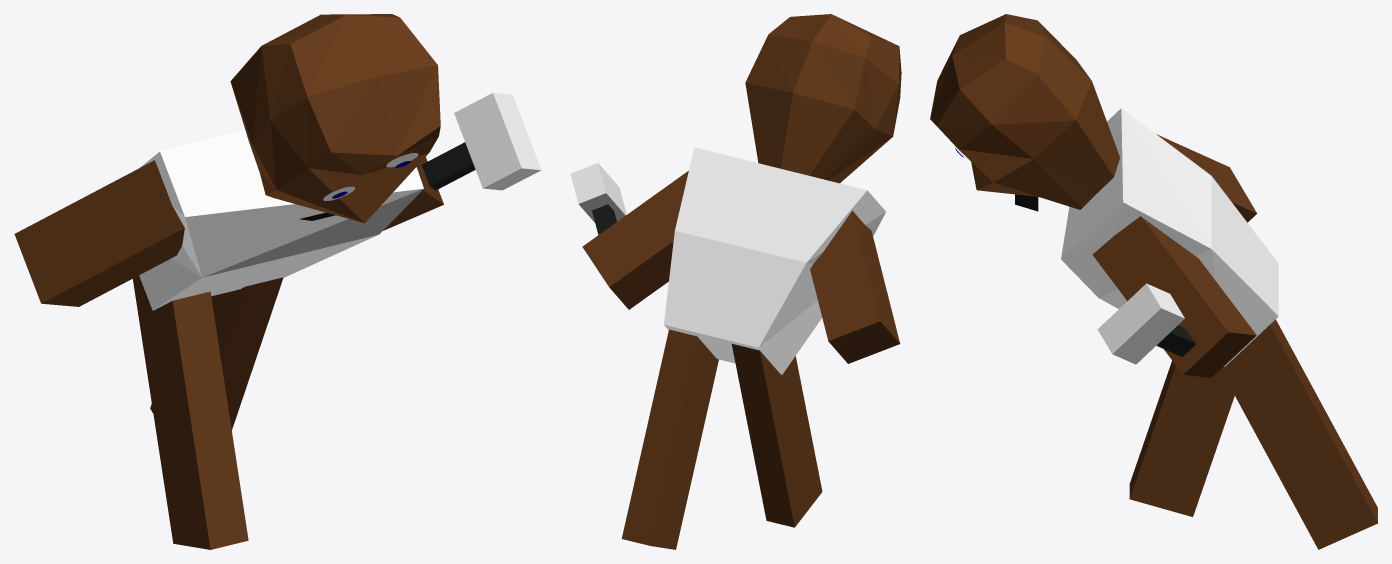
Rendered from slave1d.obj.
3 renders of one model, left to right at view 1: azimuth 30°, elevation 25°; view 2: azimuth 150°, elevation 25°; view 3: azimuth 270°, elevation 25°, orthographic. The views are drawn at different scales.
Parts seen in each view (by area): view 1: Cube, Cube.001, Cube.004, Cube.003, Cube.008, Cube.005, Cube.007, Cube.002; view 2: Cube.001, Cube, Cube.005, Cube.004, Cube.003, Cube.002, Cube.008, Cube.007; view 3: Cube, Cube.001, Cube.005, Cube.002, Cube.004, Cube.008, Cube.003, Cube.007.
Part boxes in pixels (x1,y1,x2,y2): Cube: [230, 14, 440, 223]; Cube.001: [139, 129, 423, 310]; Cube.004: [133, 275, 248, 549]; Cube.003: [14, 160, 184, 306]; Cube.008: [454, 93, 541, 190]; Cube.005: [150, 277, 283, 430]; Cube.007: [421, 142, 475, 190]; Cube.002: [383, 157, 443, 230]; Cube.001: [664, 147, 885, 374]; Cube: [745, 14, 901, 183]; Cube.005: [621, 329, 718, 549]; Cube.004: [731, 344, 822, 527]; Cube.003: [810, 211, 900, 363]; Cube.002: [582, 170, 688, 309]; Cube.008: [570, 163, 626, 222]; Cube.007: [592, 204, 616, 234]; Cube: [930, 14, 1119, 209]; Cube.001: [1061, 108, 1278, 366]; Cube.005: [1221, 319, 1377, 549]; Cube.002: [1092, 216, 1256, 377]; Cube.004: [1129, 360, 1234, 516]; Cube.008: [1097, 283, 1184, 364]; Cube.003: [1156, 134, 1257, 222]; Cube.007: [1156, 325, 1195, 356].
Size of the model in its own units: 4.16 by 5.17 by 4.16.
